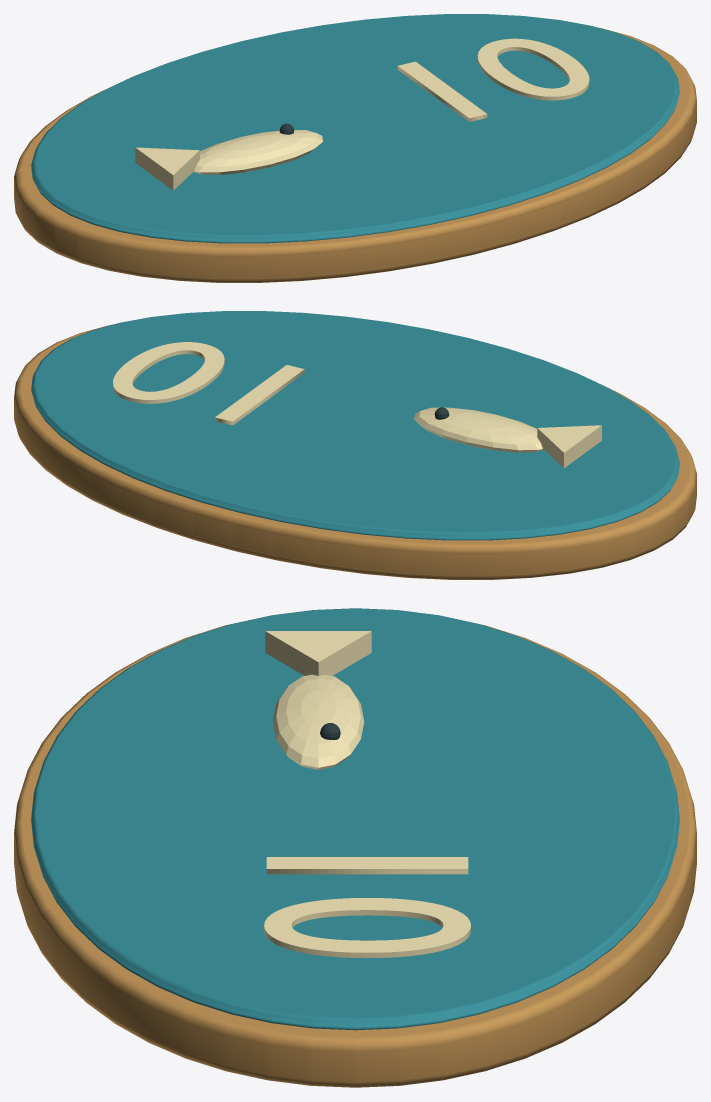
File: ground-10.fbx
3 renders of one model, top to bottom at view 1: azimuth 30°, elevation 25°; view 2: azimuth 150°, elevation 25°; view 3: azimuth 270°, elevation 25°, orthographic. The views are drawn at different scales.
Visible parts, largest first — view 1: ground-10; view 2: ground-10; view 3: ground-10.
Part boxes in pixels (box(x1,y1,x2,y2)): ground-10: box(14, 14, 696, 282); ground-10: box(14, 311, 696, 579); ground-10: box(14, 608, 696, 1087).
Bounding box in the file's own units: 2.8 × 0.288 × 1.85.
